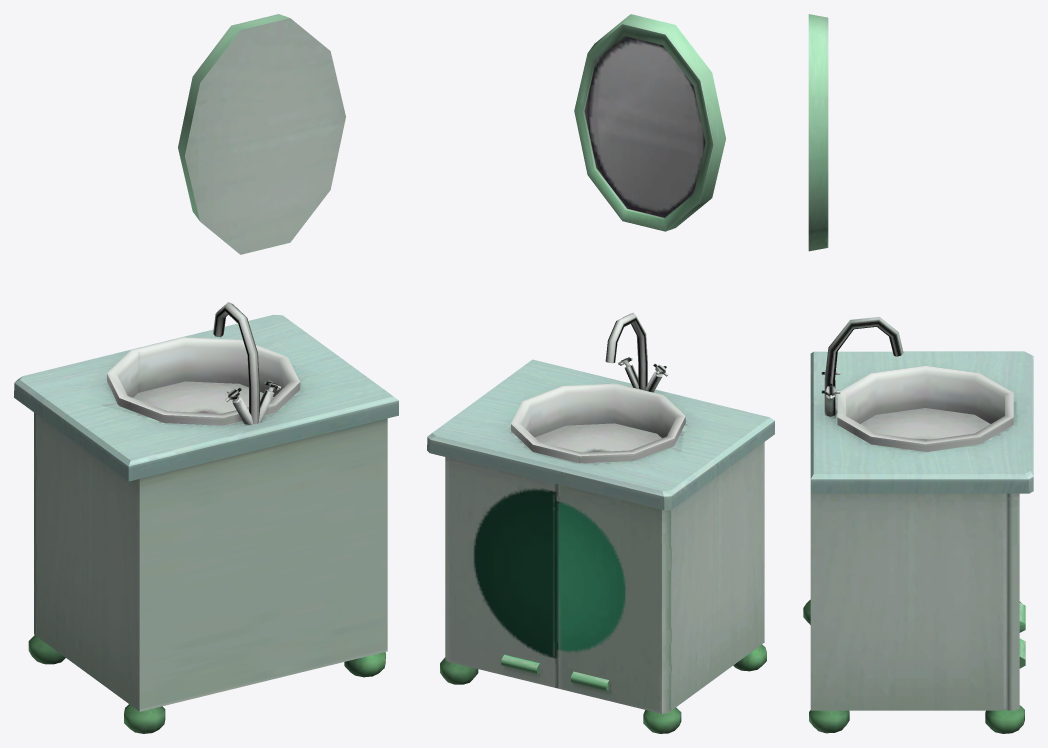
The model's file is furni_0200525_02.FBX.
The picture shows the model from 3 angles, left to right: view 1: azimuth 30°, elevation 25°; view 2: azimuth 150°, elevation 25°; view 3: azimuth 270°, elevation 25°; orthographic projection. The views are drawn at different scales.
Visible parts, largest first — view 1: furni_0200525_02; view 2: furni_0200525_02; view 3: furni_0200525_02.
Boxes of the visible parts, left/top/right/bottom form: furni_0200525_02: left=14, top=14, right=398, bottom=733; furni_0200525_02: left=427, top=14, right=774, bottom=733; furni_0200525_02: left=803, top=14, right=1033, bottom=733.
Bounding box in the file's own units: 80.26 × 193 × 62.09.
1 material, 1 textured.
